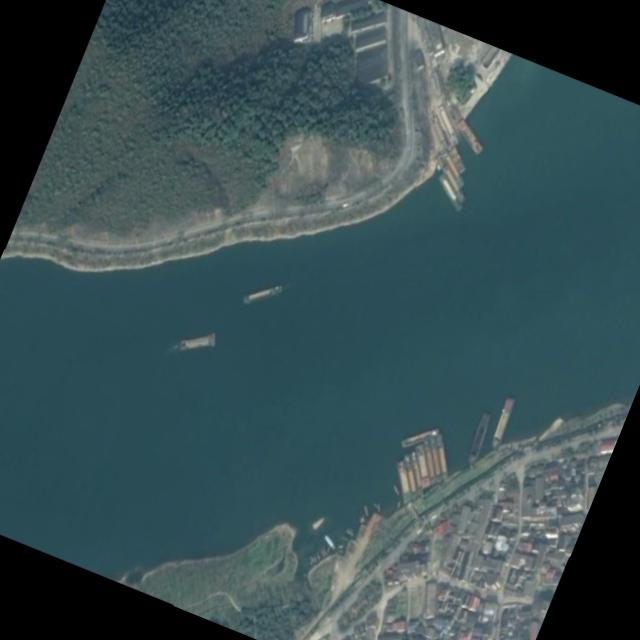ship: (468, 413, 491, 464), (491, 398, 514, 448), (457, 119, 483, 156), (438, 174, 461, 209), (443, 153, 466, 187), (442, 163, 463, 199), (400, 428, 437, 448), (179, 334, 214, 353), (416, 444, 430, 490), (244, 286, 281, 303), (404, 457, 417, 500), (435, 435, 447, 481), (397, 462, 410, 504), (424, 439, 435, 487), (429, 437, 440, 484), (411, 451, 421, 498), (449, 148, 467, 173), (311, 513, 327, 532), (323, 535, 336, 550), (364, 505, 370, 518)
